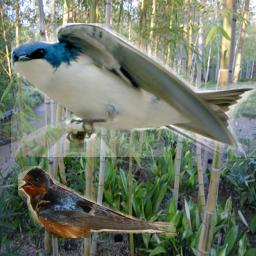Swallow: (11, 23, 256, 157), (18, 166, 177, 238)
